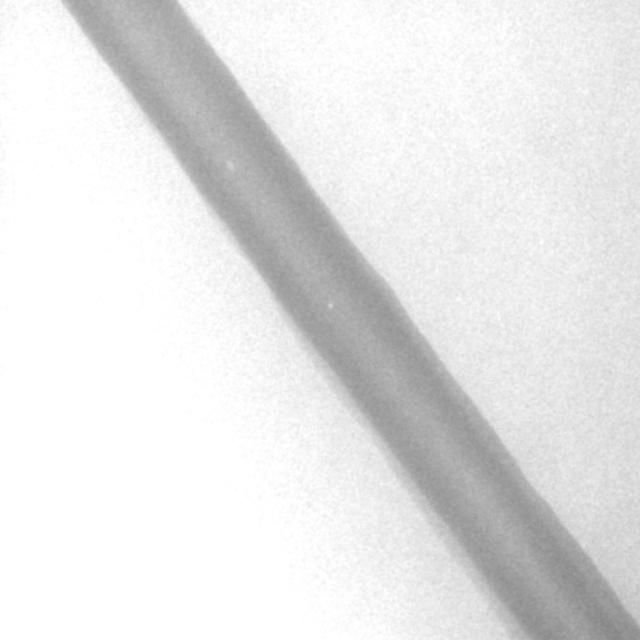air hole: (225, 157, 236, 172), (325, 299, 334, 311)
